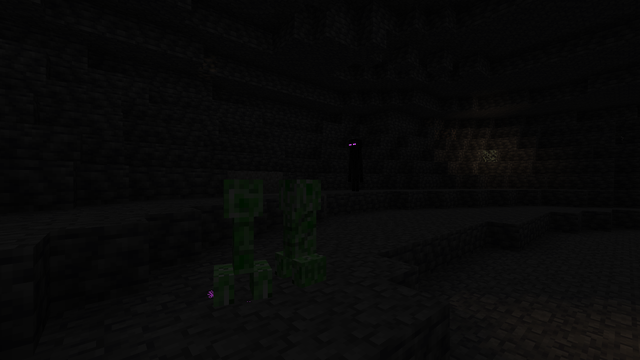creepers: (213, 173, 271, 308), (279, 174, 324, 287)
endermens: (347, 136, 362, 190)
